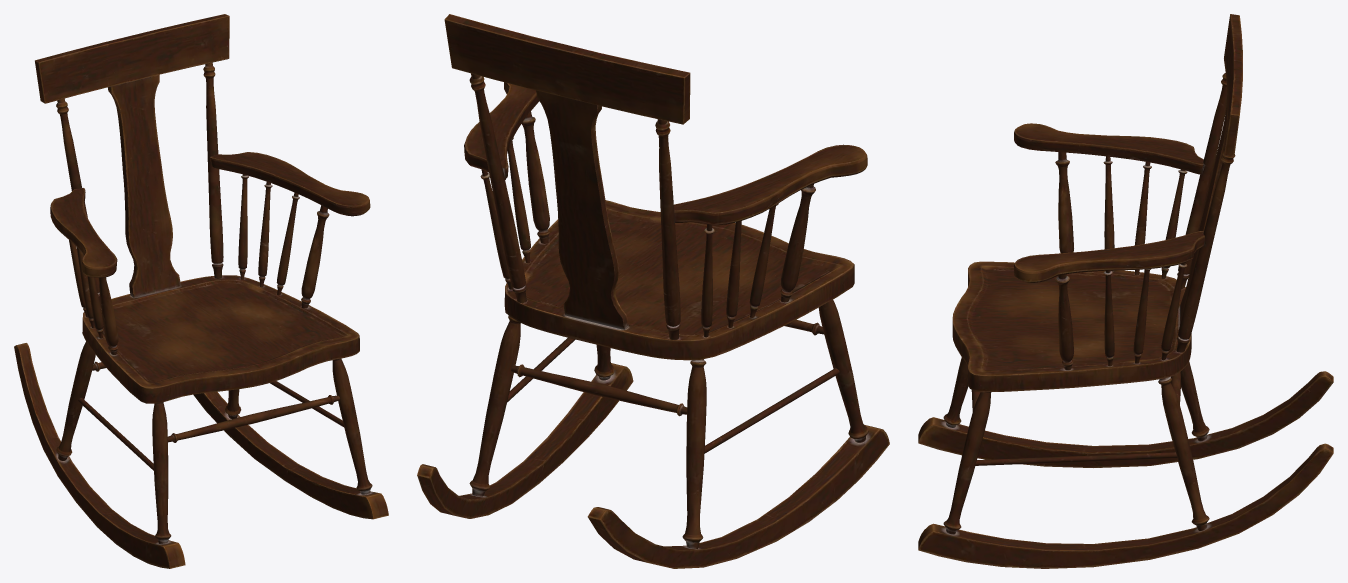
File: Rockingchair_01_2k.glb
3 renders of one model, left to right at view 1: azimuth 30°, elevation 25°; view 2: azimuth 150°, elevation 25°; view 3: azimuth 270°, elevation 25°, orthographic. The views are drawn at different scales.
Visible parts, largest first — view 1: Rockingchair_01; view 2: Rockingchair_01; view 3: Rockingchair_01.
Part boxes in pixels (x1,y1,x2,y2): Rockingchair_01: [14, 14, 388, 568]; Rockingchair_01: [417, 14, 889, 568]; Rockingchair_01: [918, 14, 1333, 568].
Bounding box in the file's own units: 0.7081 × 0.9949 × 0.8335.
Materials: 1 (1 with a texture image).
